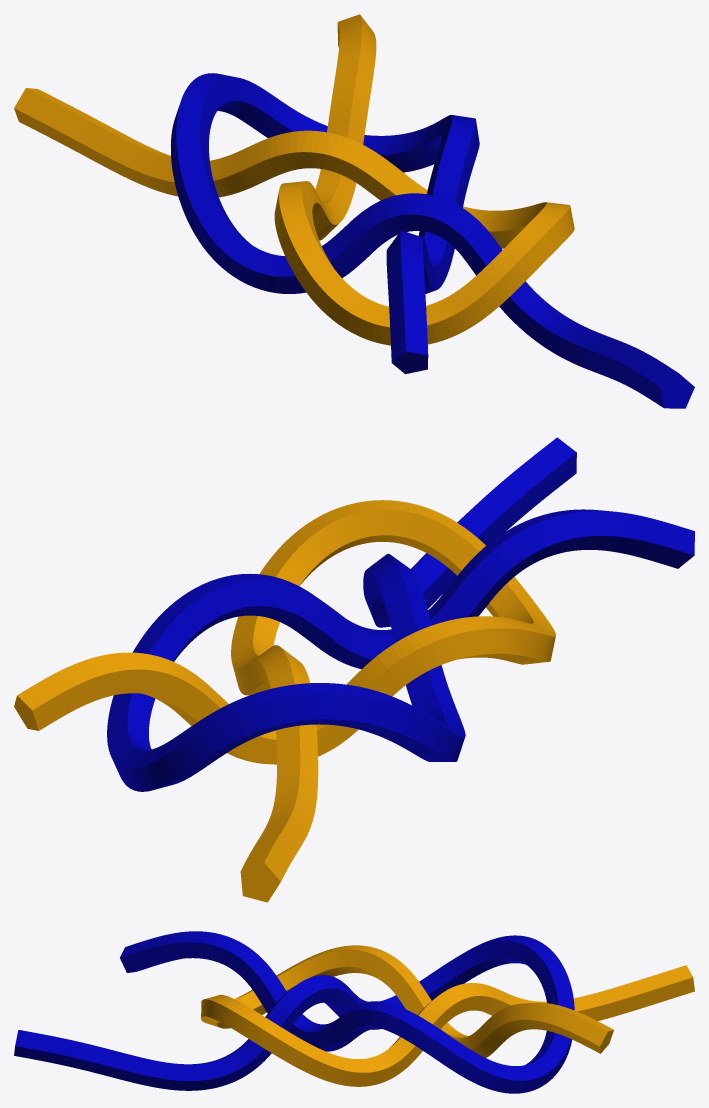
The model's file is carrick-bend.glb.
The picture shows the model from 3 angles, top to bottom: view 1: azimuth 30°, elevation 25°; view 2: azimuth 150°, elevation 25°; view 3: azimuth 270°, elevation 25°; orthographic projection. The views are drawn at different scales.
Visible parts, largest first — view 1: KPcomp1, KPcomp0; view 2: KPcomp1, KPcomp0; view 3: KPcomp1, KPcomp0.
Part boxes in pixels (x1,y1,x2,y2): KPcomp1: (171, 73, 694, 408); KPcomp0: (14, 14, 574, 345); KPcomp1: (107, 437, 694, 791); KPcomp0: (14, 500, 555, 902); KPcomp1: (14, 931, 574, 1093); KPcomp0: (201, 945, 694, 1086).
Size of the model in its own units: 0.7022 by 0.3074 by 1.89.
